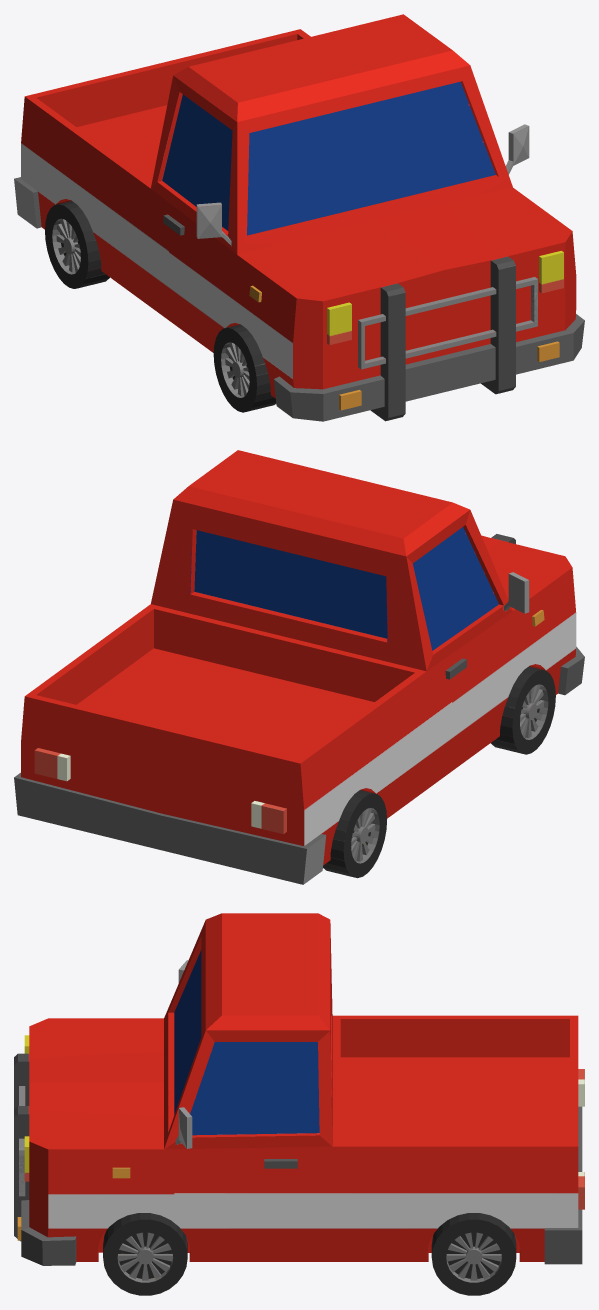
File: truck.fbx
The picture shows the model from 3 angles, top to bottom: view 1: azimuth 30°, elevation 25°; view 2: azimuth 150°, elevation 25°; view 3: azimuth 270°, elevation 25°; orthographic projection. The views are drawn at different scales.
Parts seen in each view (by area): view 1: Cube.001; view 2: Cube.001; view 3: Cube.001.
Part boxes in pixels (box(x1,y1,x2,y2)): Cube.001: box(14, 14, 584, 421); Cube.001: box(14, 450, 584, 884); Cube.001: box(14, 913, 584, 1295).
Size of the model in its own units: 600 by 463 by 919.
